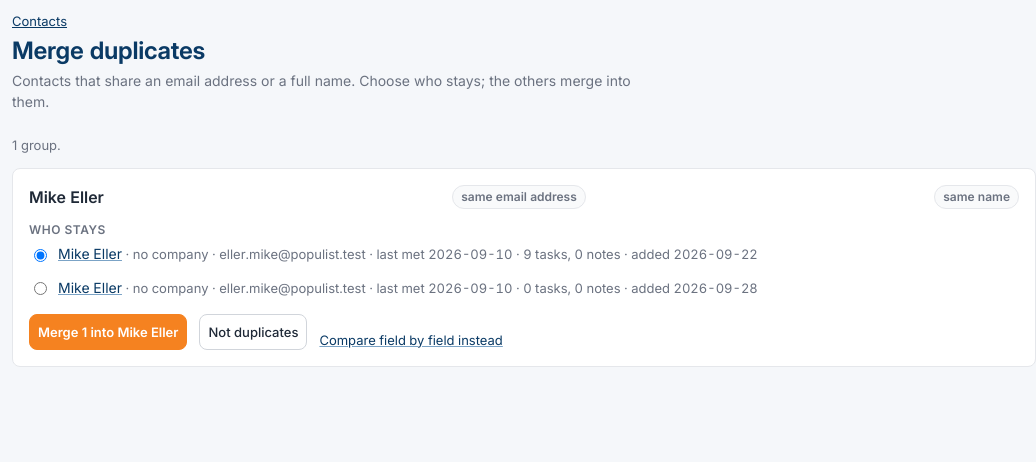
merge duplicates (owner, 2026-09-29) › marks a group not duplicates, and Undo takes it back (2026-10-03)
This screenshot has width=1036, height=462.
Step 1. Click the button with aria-label "Not duplicates (a)" → {"x": 254, "y": 332}, box x1=200 y1=314 x2=308 y2=350
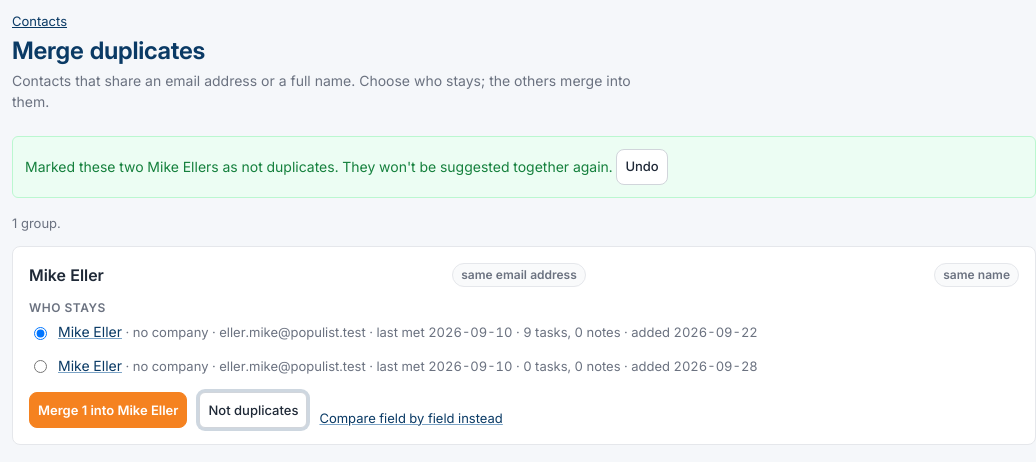
Result: the text "won't be suggested together again" is shown at x1=219 y1=157 x2=613 y2=174
Step 2. Click the button "Undo" → {"x": 642, "y": 166}, box x1=616 y1=148 x2=668 y2=184
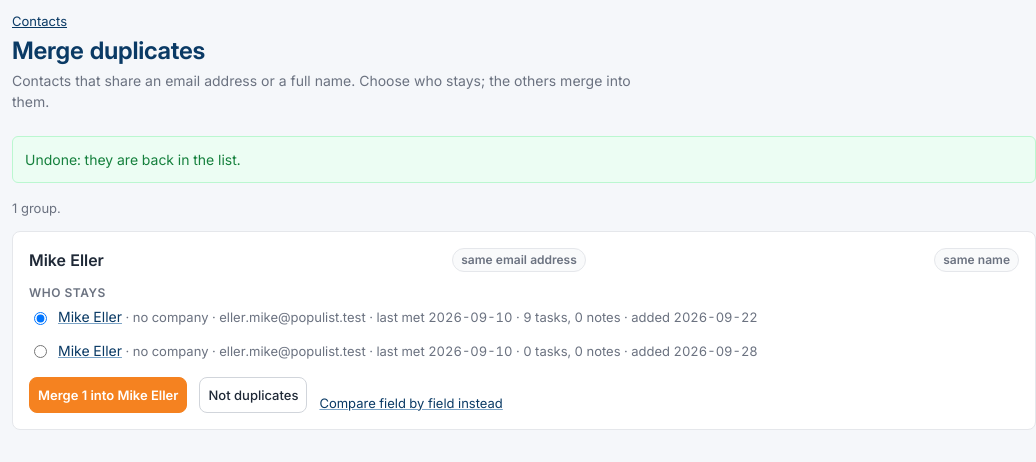
Result: the text "Undone: they are back in the list." is shown at x1=25 y1=150 x2=240 y2=168
